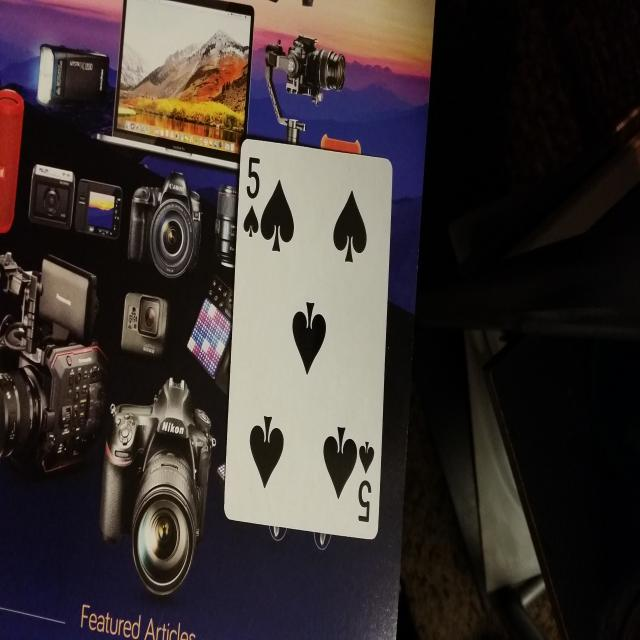5s: (240, 148, 264, 255), (354, 435, 376, 534)
